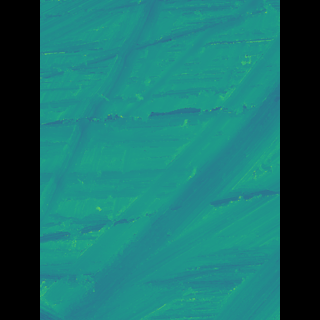Loch: (69, 29, 250, 320)
